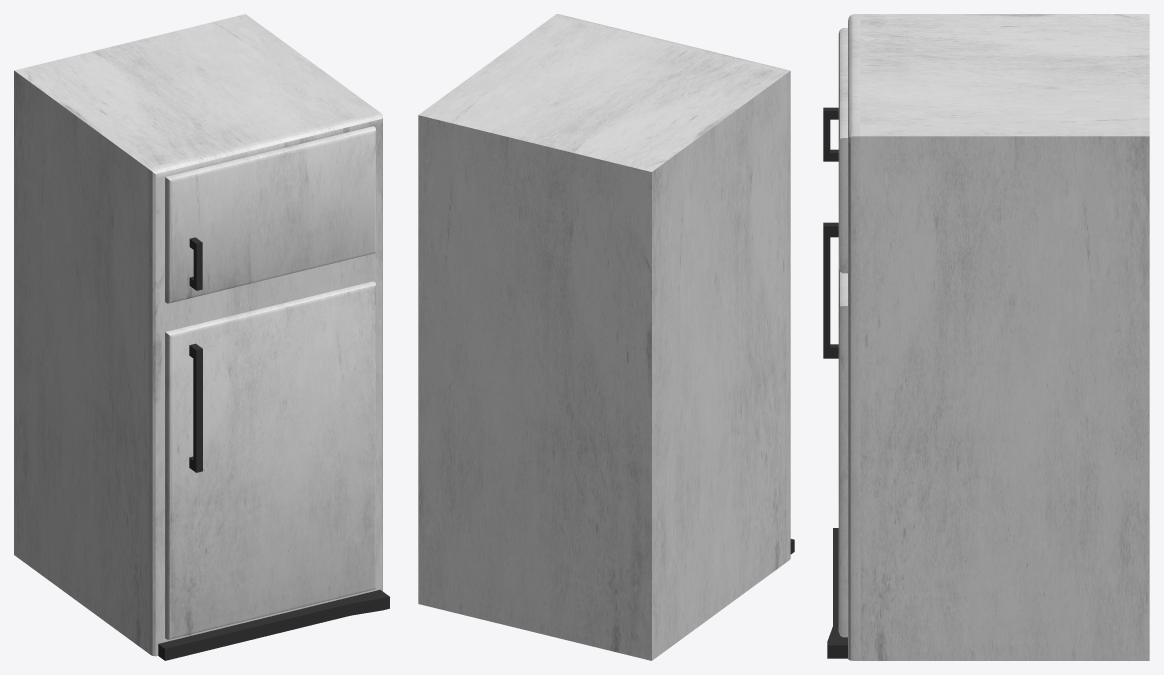
The model's file is Fridge.fbx.
3 renders of one model, left to right at view 1: azimuth 30°, elevation 25°; view 2: azimuth 150°, elevation 25°; view 3: azimuth 270°, elevation 25°, orthographic. The views are drawn at different scales.
Parts seen in each view (by area): view 1: Cube, Cube.002, Cube.001, Cube.003; view 2: Cube, Cube.003; view 3: Cube, Cube.003, Cube.002, Cube.001.
Boxes of the visible parts, <box> form: Cube: <box>14,14,378,652</box>; Cube.002: <box>165,281,375,639</box>; Cube.001: <box>165,126,375,303</box>; Cube.003: <box>147,112,389,660</box>; Cube: <box>418,16,786,660</box>; Cube.003: <box>553,14,794,561</box>; Cube: <box>860,14,1149,660</box>; Cube.003: <box>827,14,860,660</box>; Cube.002: <box>823,222,847,637</box>; Cube.001: <box>823,28,847,273</box>.
Bounding box in the file's own units: 100 × 200 × 113.
3 materials, 2 textured.
